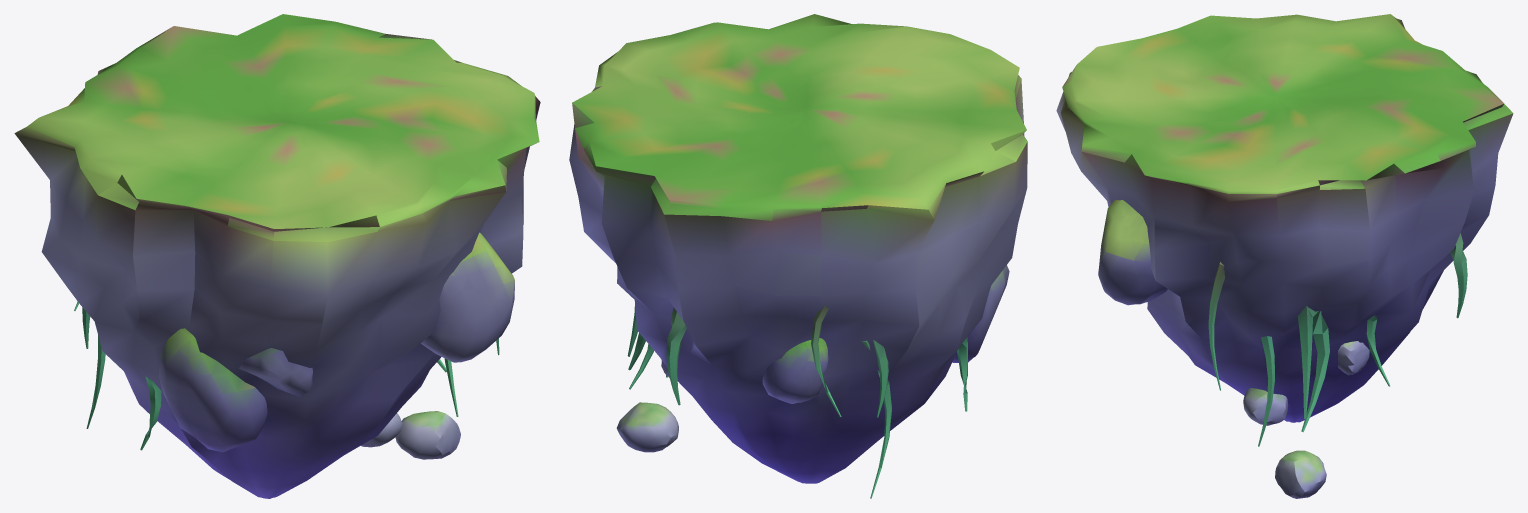
The model's file is verdant_island_16.glb.
The picture shows the model from 3 angles, left to right: view 1: azimuth 30°, elevation 25°; view 2: azimuth 150°, elevation 25°; view 3: azimuth 270°, elevation 25°; orthographic projection. The views are drawn at different scales.
Parts seen in each view (by area): view 1: verdant_island_16, Floater_3; view 2: verdant_island_16, Floater_3; view 3: verdant_island_16, Floater_3, Floater_1, Floater_0.
Part boxes in pixels (left/top/right/bottom): verdant_island_16: left=14, top=14, right=540, bottom=498; Floater_3: left=395, top=411, right=460, bottom=459; verdant_island_16: left=569, top=14, right=1027, bottom=498; Floater_3: left=616, top=402, right=678, bottom=452; verdant_island_16: left=1056, top=14, right=1513, bottom=446; Floater_3: left=1275, top=450, right=1326, bottom=498; Floater_1: left=1243, top=388, right=1288, bottom=425; Floater_0: left=1338, top=341, right=1369, bottom=375.
Bounding box in the file's own units: 16.51 × 14.25 × 17.51.
